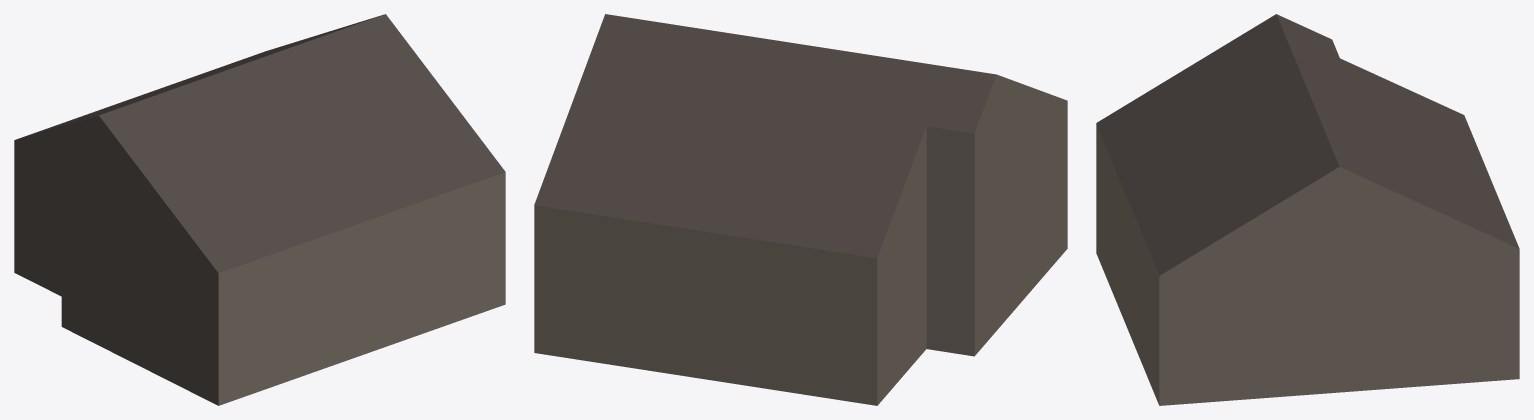
3 views of the same model, side by side, from view 1: azimuth 30°, elevation 25°; view 2: azimuth 150°, elevation 25°; view 3: azimuth 270°, elevation 25° (orthographic). The views are drawn at different scales.
Parts seen in each view (by area): view 1: HP-w1197715829; view 2: HP-w1197715829; view 3: HP-w1197715829.
Boxes of the visible parts, x1=… form: HP-w1197715829: x1=14, y1=14, x2=505, y2=405; HP-w1197715829: x1=534, y1=14, x2=1067, y2=405; HP-w1197715829: x1=1096, y1=14, x2=1519, y2=405.
Bounding box in the file's own units: 16.86 × 10.42 × 17.71.
